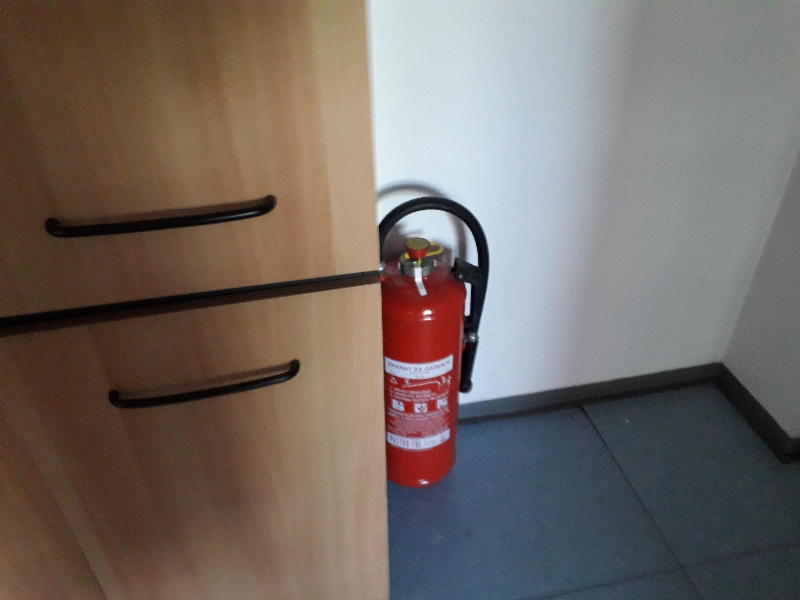vataparat: (379, 199, 489, 486)
